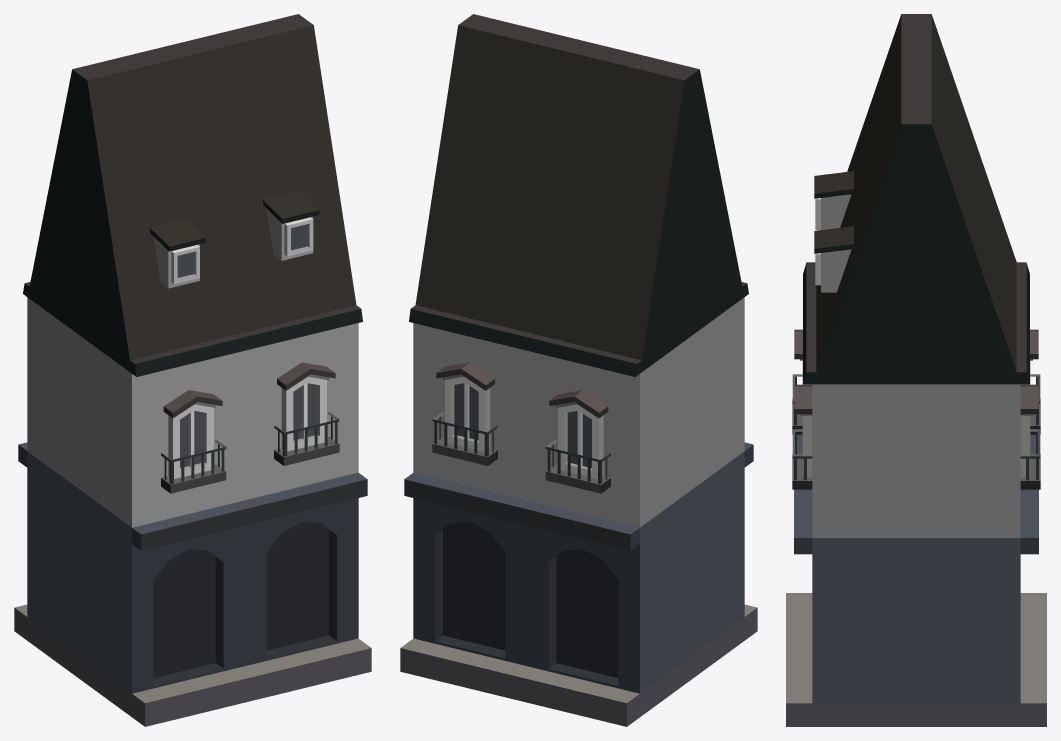
Rendered from TB_CITY_BD_T_Line_2_D.FBX.
The picture shows the model from 3 angles, left to right: view 1: azimuth 30°, elevation 25°; view 2: azimuth 150°, elevation 25°; view 3: azimuth 270°, elevation 25°; orthographic projection.
Parts seen in each view (by area): view 1: TB_CITY_BD_T_Line_2_D; view 2: TB_CITY_BD_T_Line_2_D; view 3: TB_CITY_BD_T_Line_2_D.
Boxes of the visible parts, <box> form: TB_CITY_BD_T_Line_2_D: <box>14,14,371,726</box>; TB_CITY_BD_T_Line_2_D: <box>400,14,757,726</box>; TB_CITY_BD_T_Line_2_D: <box>786,14,1046,726</box>.
Size of the model in its own units: 7.99 by 20.37 by 7.99.
